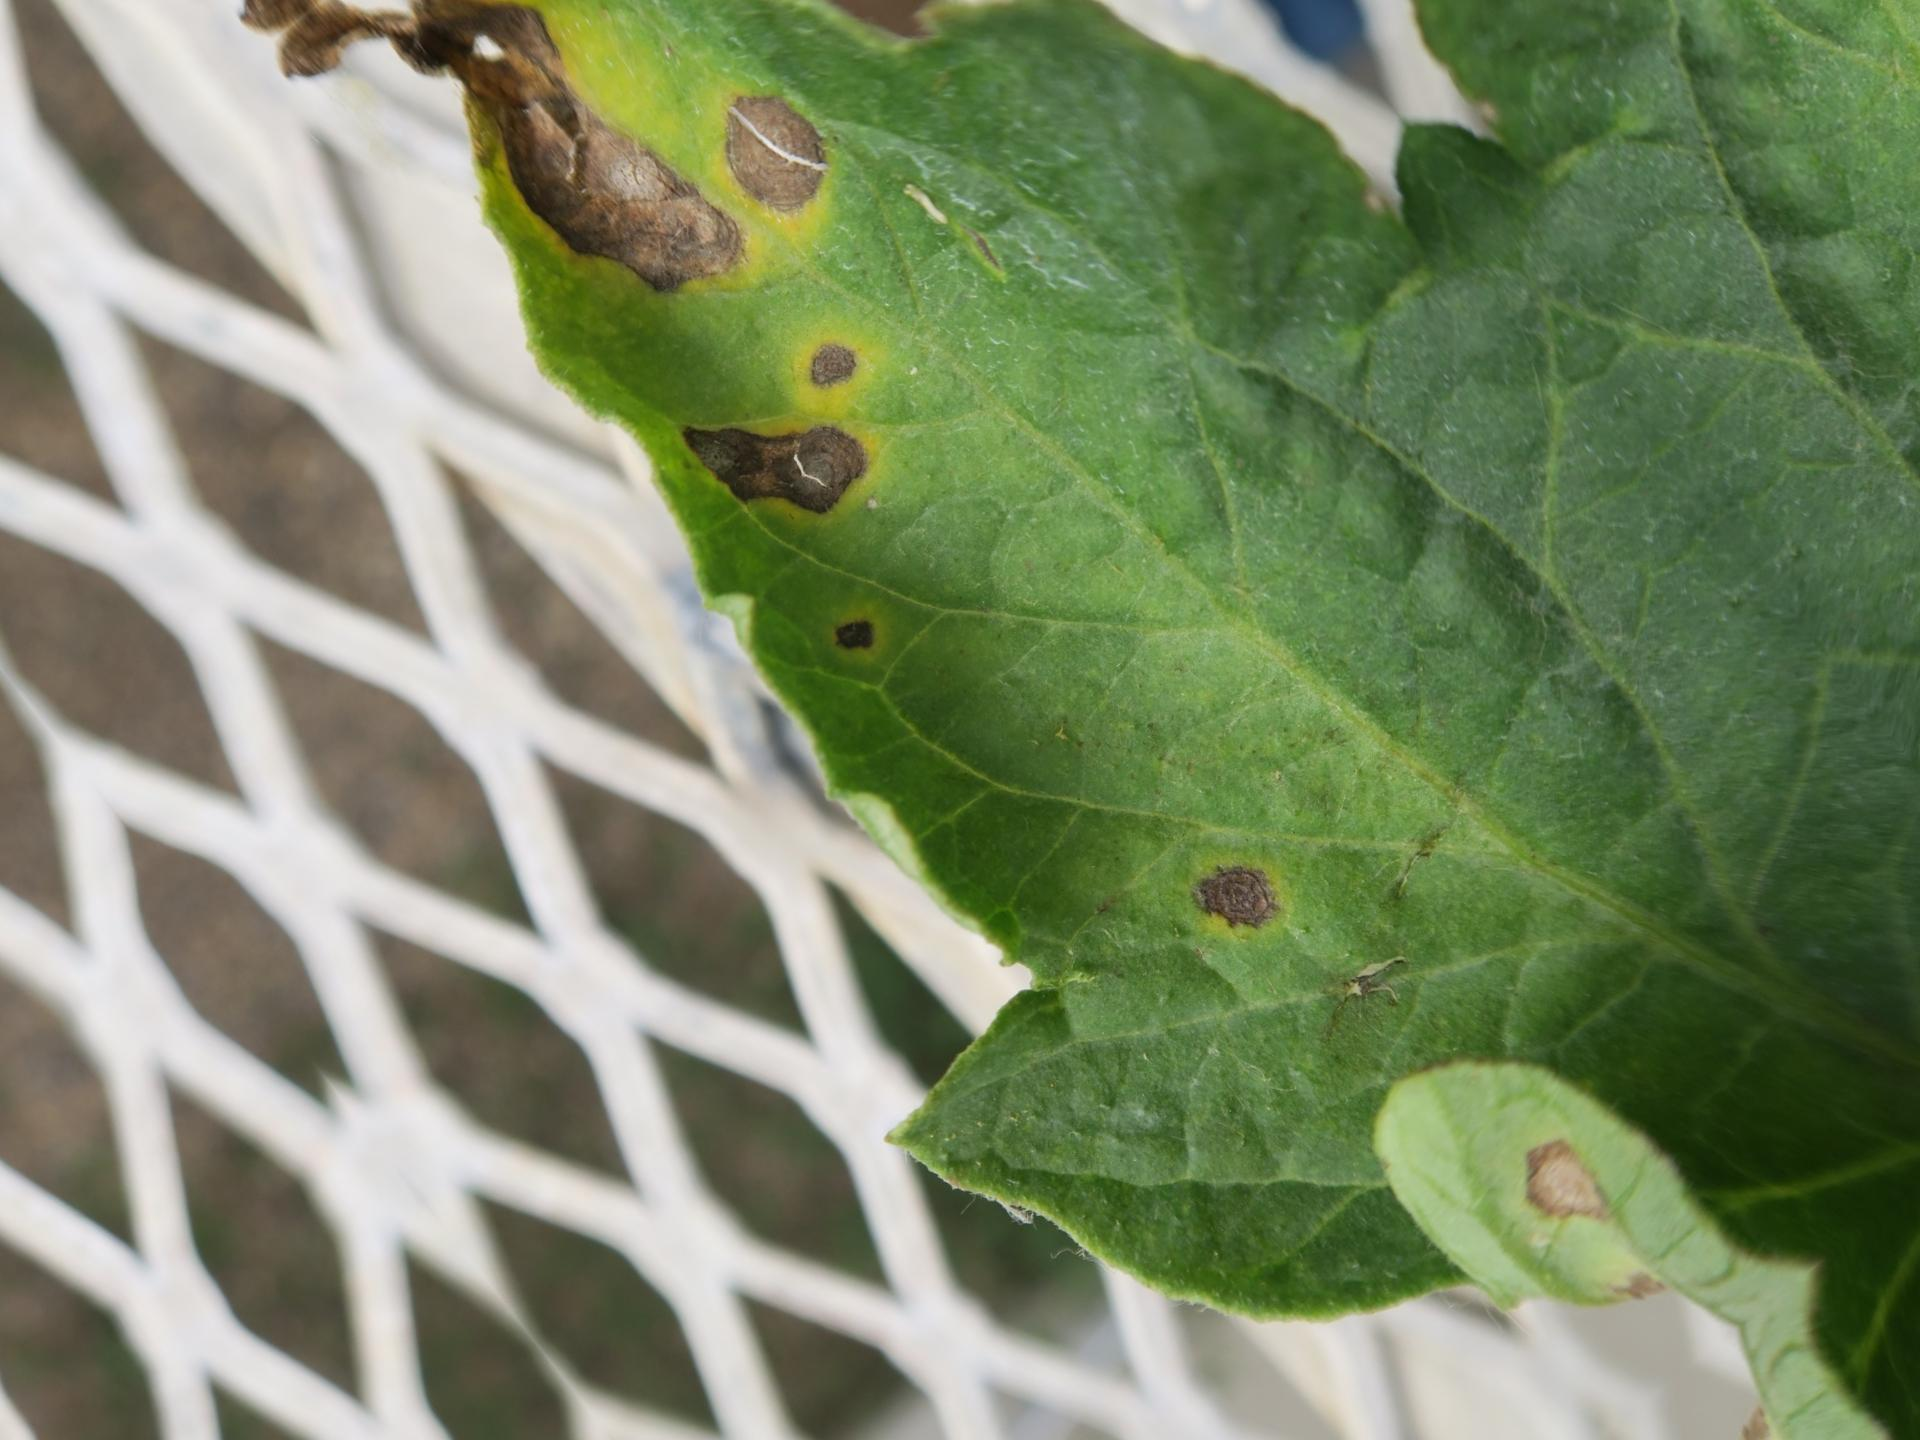Tomato Early blight leaf: (183, 0, 1920, 1440)
